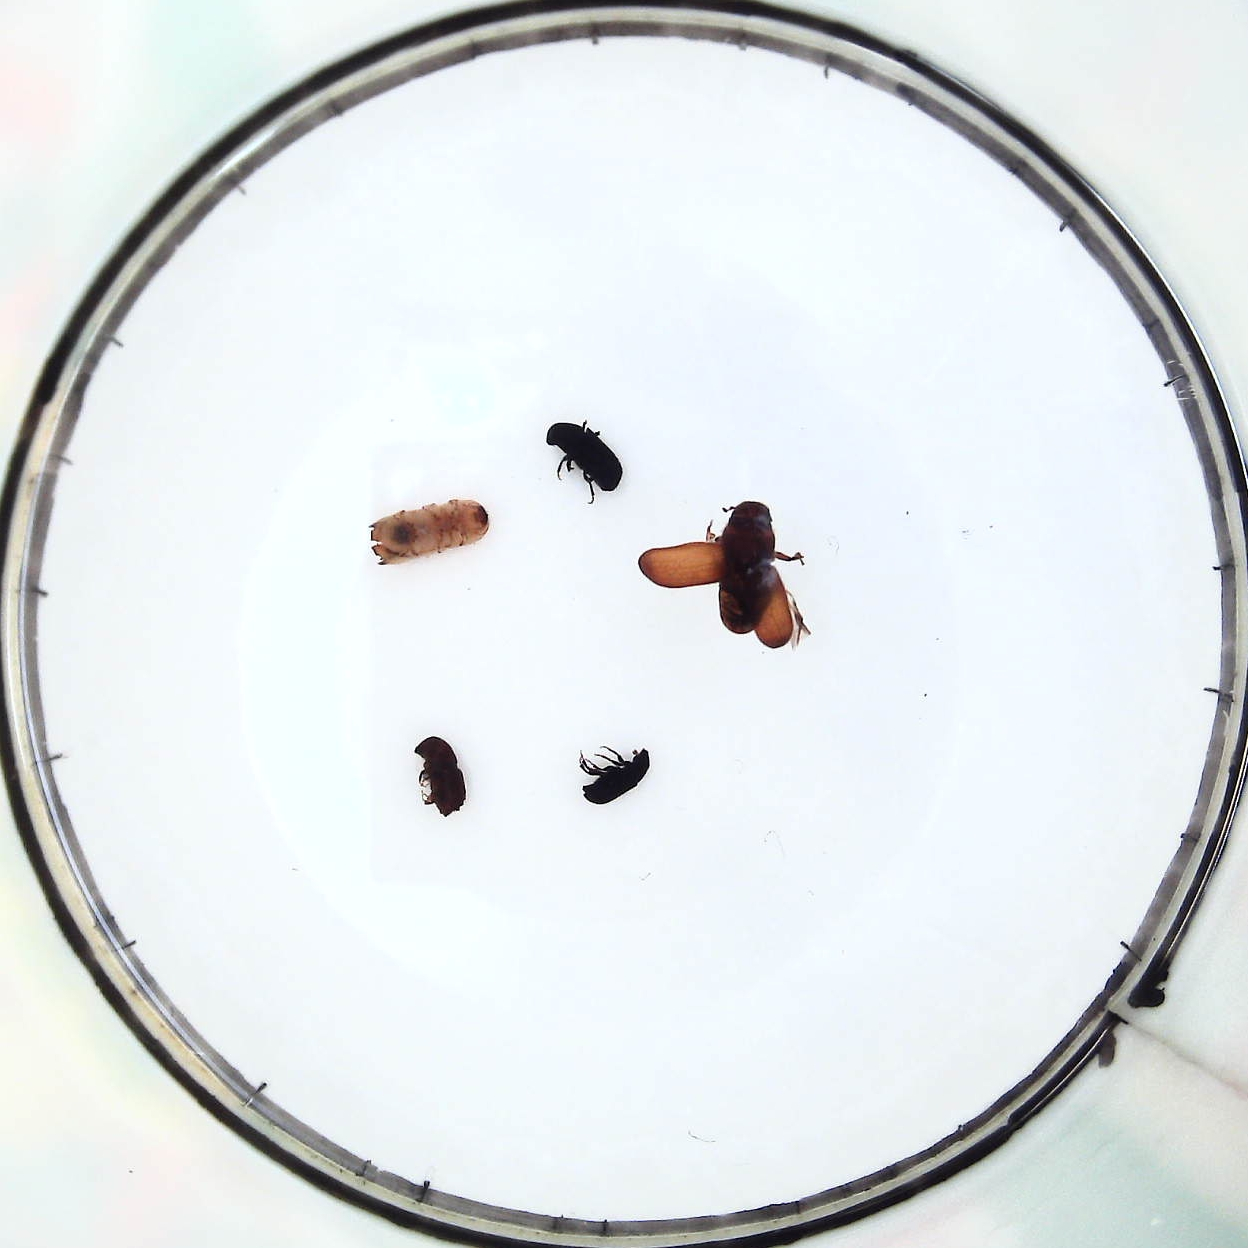Boerner: (369, 497, 493, 570)
Leconte: (640, 497, 808, 655)
Linnaeus: (416, 730, 469, 821)
armandi: (547, 418, 619, 494)
coleoptera: (581, 746, 653, 808)
